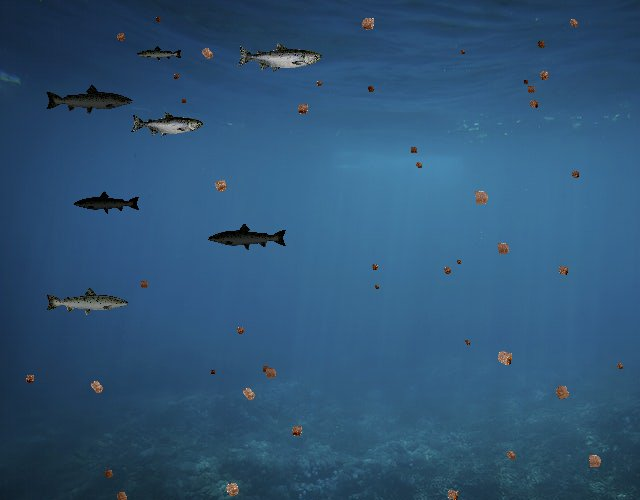Fish: (44, 83, 134, 115), (44, 286, 130, 317), (236, 42, 322, 73), (207, 222, 288, 252), (131, 111, 204, 138), (74, 191, 142, 215), (136, 45, 183, 62)
Pellet: (467, 183, 495, 211), (491, 236, 515, 260), (195, 42, 219, 66), (501, 445, 521, 465), (534, 65, 554, 85), (454, 256, 464, 266)
